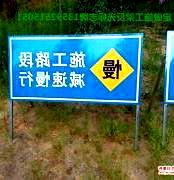sign: (11, 37, 138, 104)
